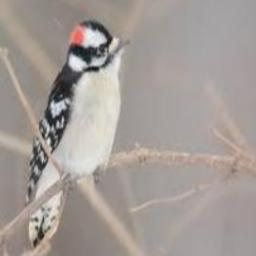Woodpecker: (25, 20, 130, 250)
